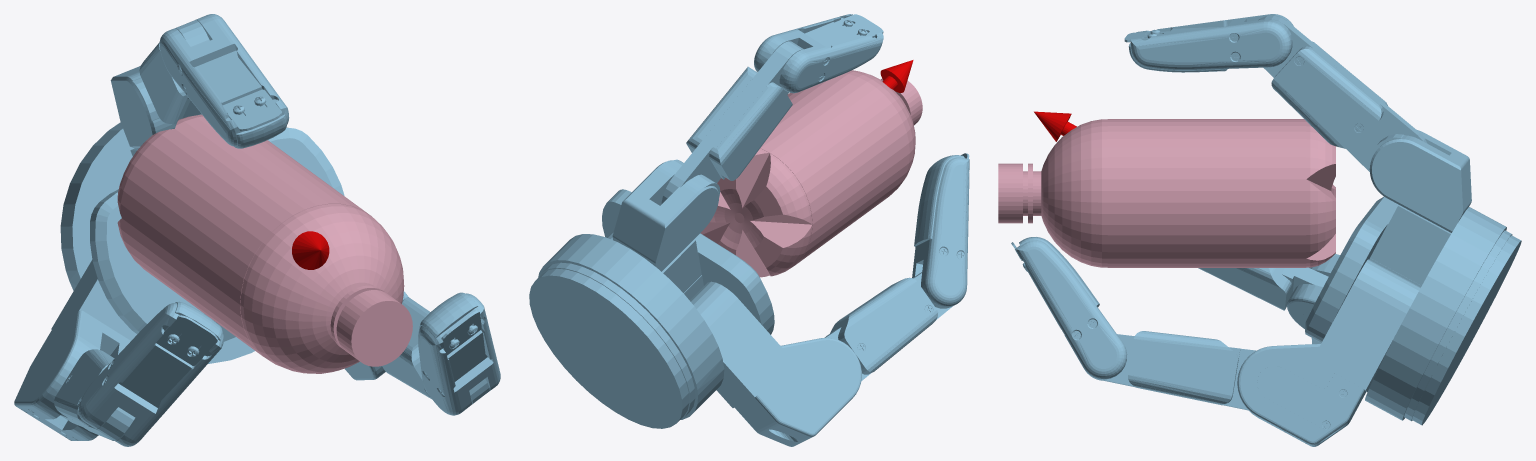
3 renders of one model, left to right at view 1: azimuth 30°, elevation 25°; view 2: azimuth 150°, elevation 25°; view 3: azimuth 270°, elevation 25°, orthographic. The views are drawn at different scales.
Parts seen in each view (by area): view 1: world, water_bottle.stl; view 2: world, water_bottle.stl; view 3: world, water_bottle.stl.
Boxes of the visible parts, x1=… form: world: x1=14, y1=14, x2=500, y2=446; water_bottle.stl: x1=117, y1=114, x2=412, y2=373; world: x1=529, y1=14, x2=969, y2=446; water_bottle.stl: x1=700, y1=70, x2=922, y2=277; world: x1=1011, y1=14, x2=1521, y2=446; water_bottle.stl: x1=998, y1=119, x2=1335, y2=267.
Size of the model in its own units: 0.1591 by 0.1675 by 0.2115.
